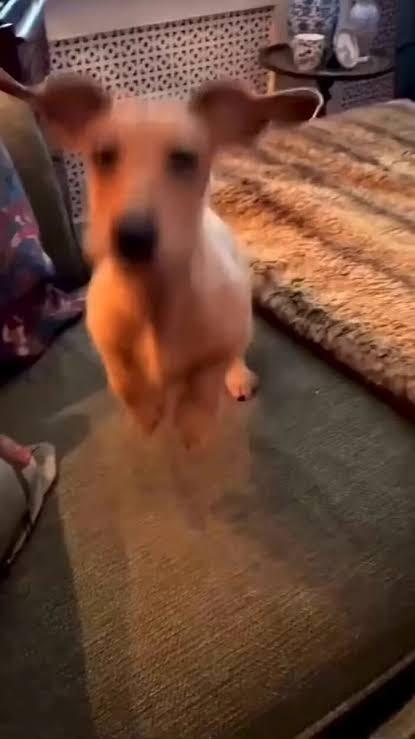puppy-dog: (1, 68, 325, 452)
